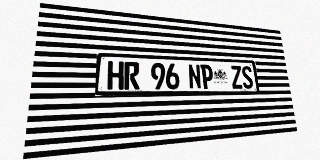6: (165, 63, 180, 89)
9: (151, 63, 166, 89)
H: (107, 61, 124, 90)
N: (188, 64, 202, 89)
P: (200, 64, 214, 89)
R: (124, 62, 140, 90)
S: (241, 66, 254, 89)
Z: (230, 65, 243, 89)
